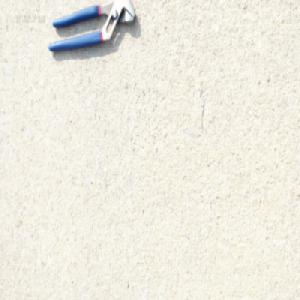Pliers: (46, 0, 136, 54)
